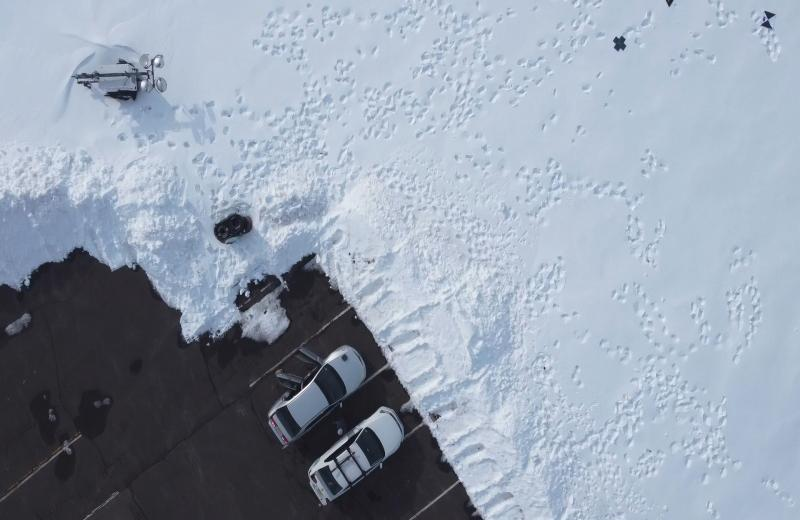Cross: (611, 34, 629, 52)
Triangle: (662, 0, 676, 7)
